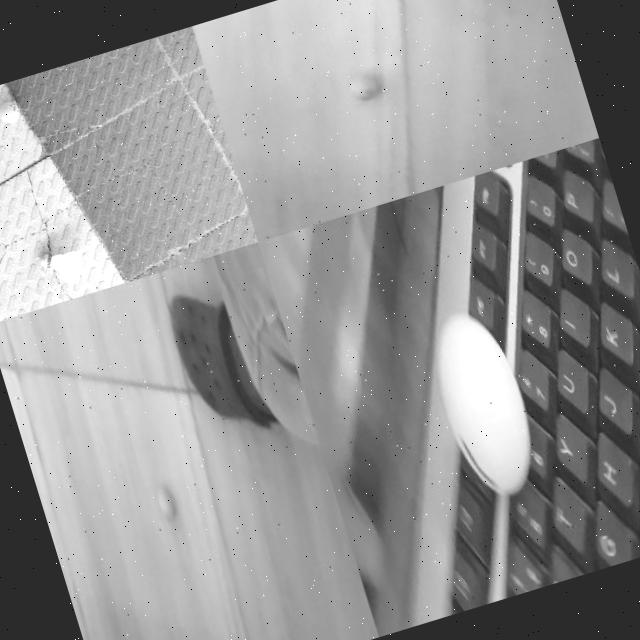ping-pong-ball: (424, 313, 544, 497), (349, 70, 382, 102), (152, 481, 175, 517), (0, 96, 23, 126)
